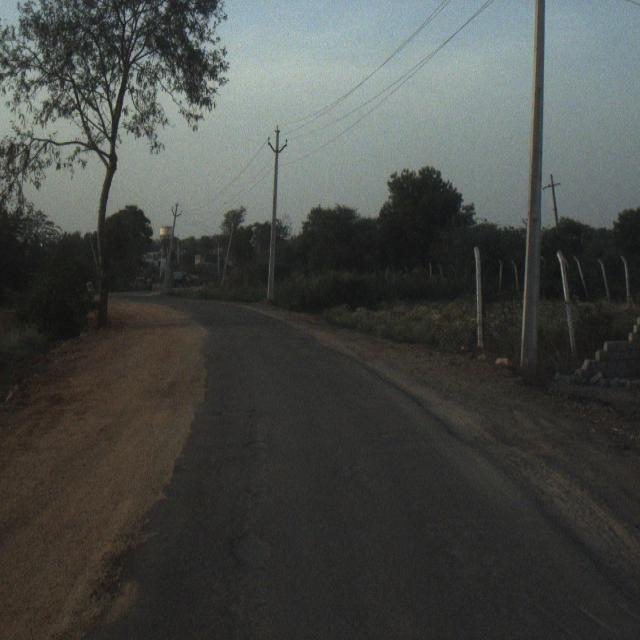pothole: (222, 520, 274, 582), (237, 433, 282, 473)
